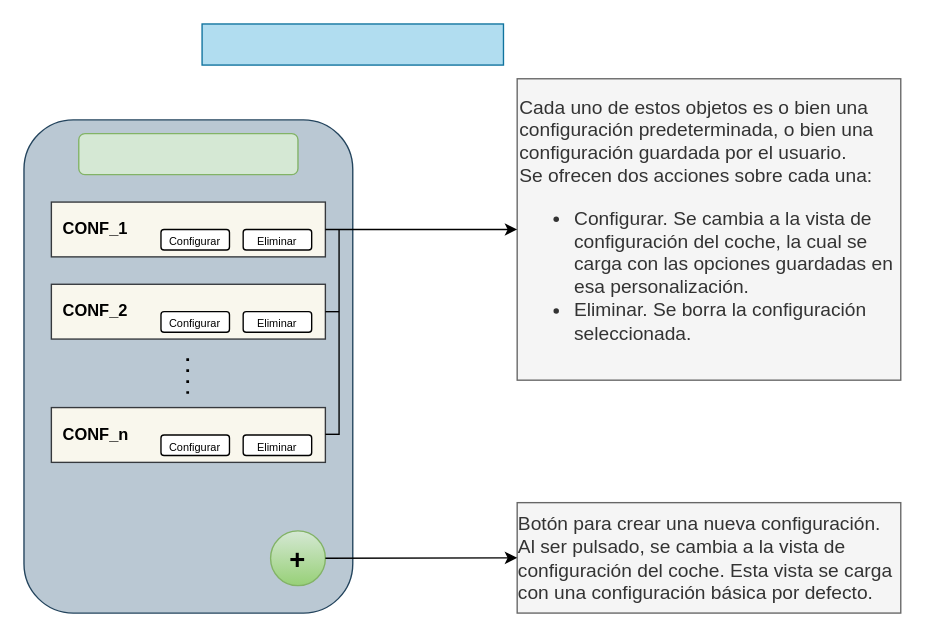
This 925x637 diagram has some shape labels left out. The centre of each missing label's shape, as x and y in pixels:
Home: pixel 187 153
Vista principal: pixel 352 44
